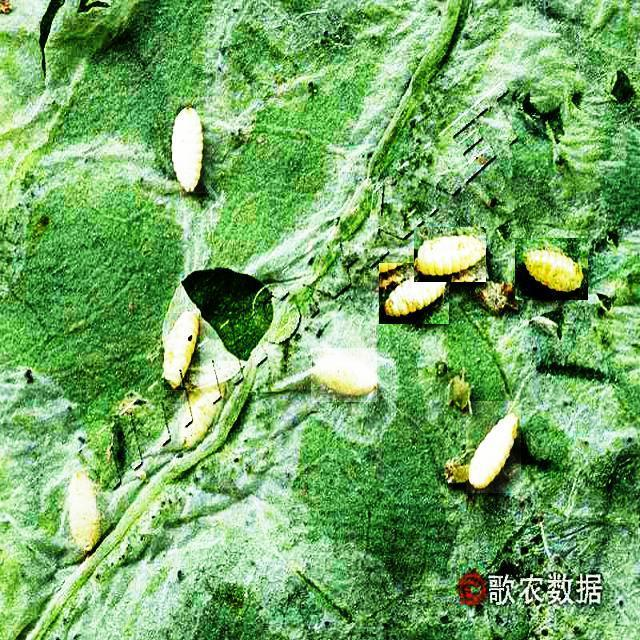whorl-maggot: (466, 402, 521, 494), (515, 238, 588, 300), (166, 97, 211, 193), (379, 263, 449, 324), (415, 227, 487, 282), (311, 348, 377, 402), (68, 469, 103, 554), (164, 313, 200, 390)
